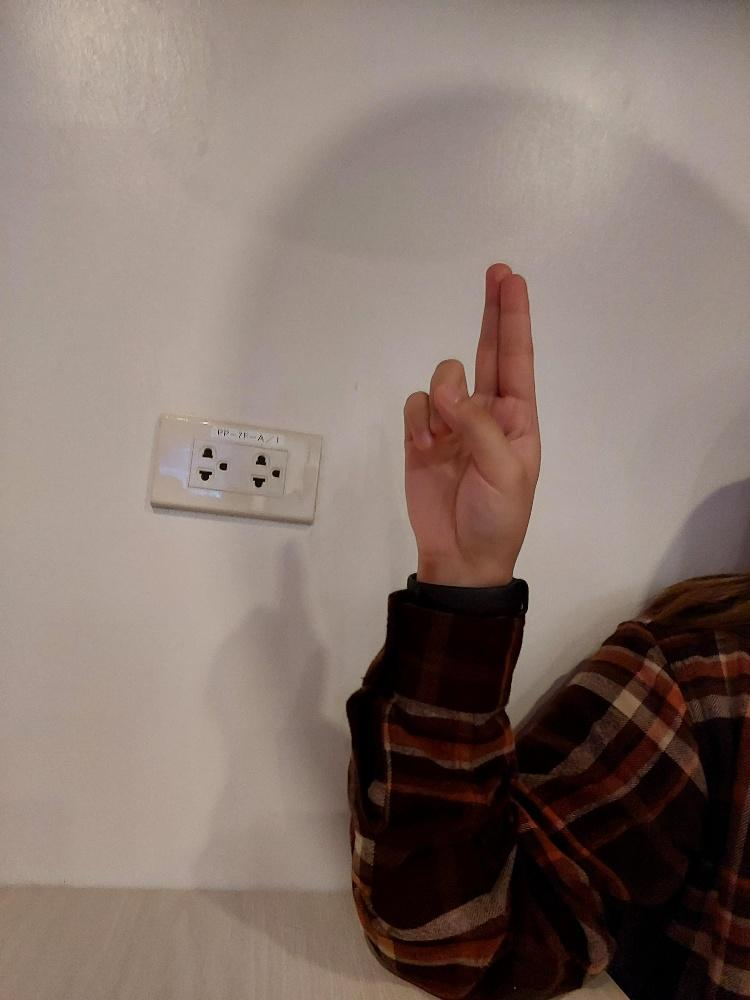u: (401, 259, 544, 581)
